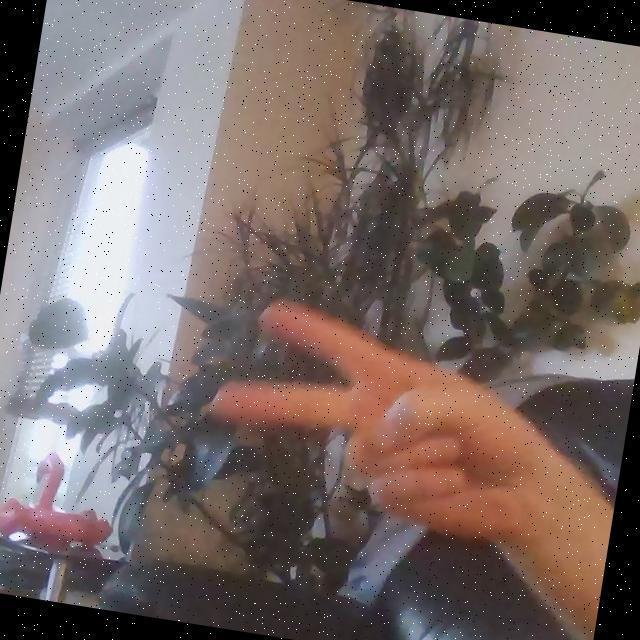scissors: (190, 288, 544, 557)
